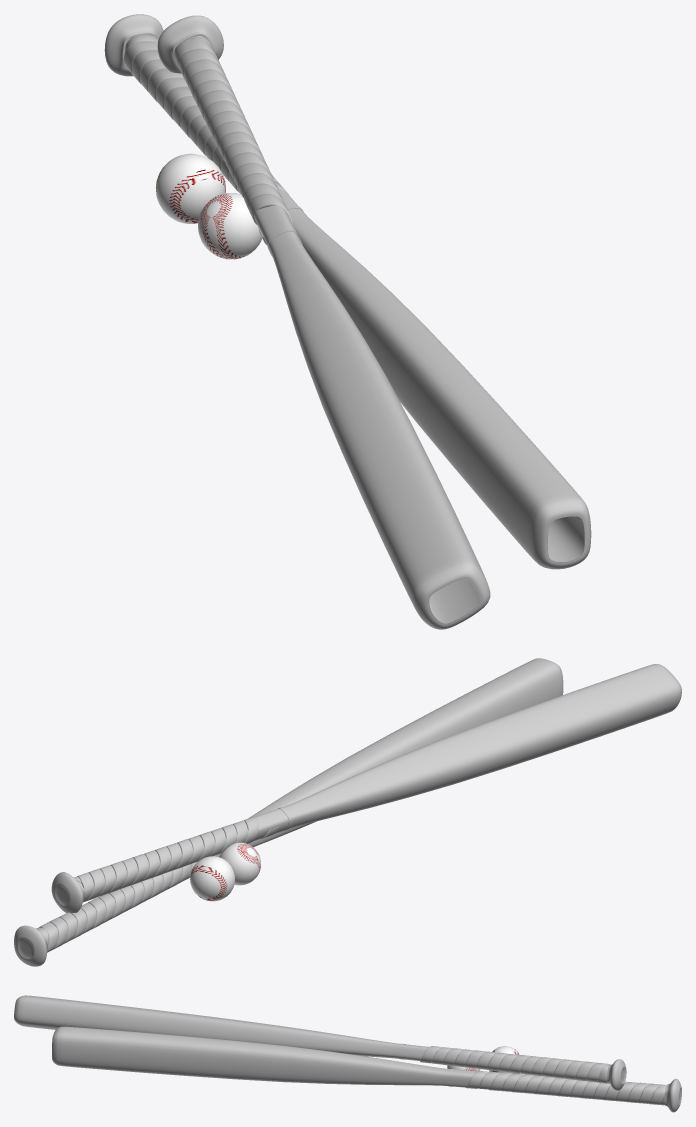
3 renders of one model, top to bottom at view 1: azimuth 30°, elevation 25°; view 2: azimuth 150°, elevation 25°; view 3: azimuth 270°, elevation 25°, orthographic. The views are drawn at different scales.
Parts seen in each view (by area): view 1: Object001, Arch27_001_022, Sphere004, Arch27_001_027; view 2: Object001, Arch27_001_022, Sphere004, Arch27_001_027; view 3: Arch27_001_022, Object001, Sphere004.
Part boxes in pixels (left/top/right/bottom): Object001: left=104, top=14, right=490, bottom=629; Arch27_001_022: left=123, top=34, right=591, bottom=569; Sphere004: left=156, top=153, right=225, bottom=223; Arch27_001_027: left=198, top=193, right=262, bottom=259; Object001: left=14, top=664, right=681, bottom=966; Arch27_001_022: left=36, top=658, right=563, bottom=952; Sphere004: left=190, top=856, right=235, bottom=901; Arch27_001_027: left=219, top=842, right=260, bottom=885; Arch27_001_022: left=52, top=1026, right=666, bottom=1105; Object001: left=14, top=995, right=681, bottom=1112; Sphere004: left=489, top=1046, right=519, bottom=1073.
Bounding box in the file's own units: 8.85 × 2.18 × 26.07.
